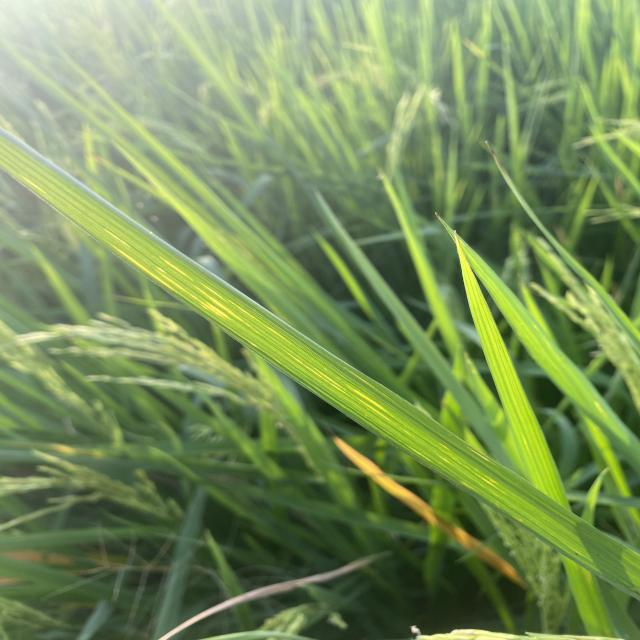Dom soc vi khuan: (155, 270, 234, 321), (278, 346, 350, 396), (192, 284, 262, 335), (110, 244, 179, 294), (228, 300, 292, 344), (344, 383, 395, 417), (159, 256, 194, 281), (312, 367, 347, 391), (200, 282, 229, 303), (157, 267, 166, 273)
